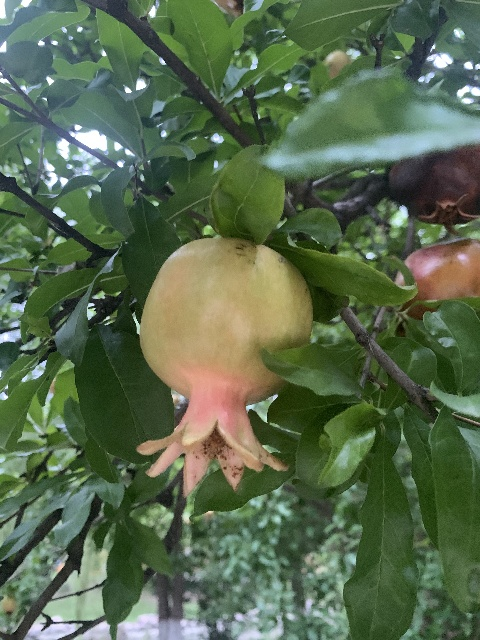mid-growth: (134, 235, 312, 501)
